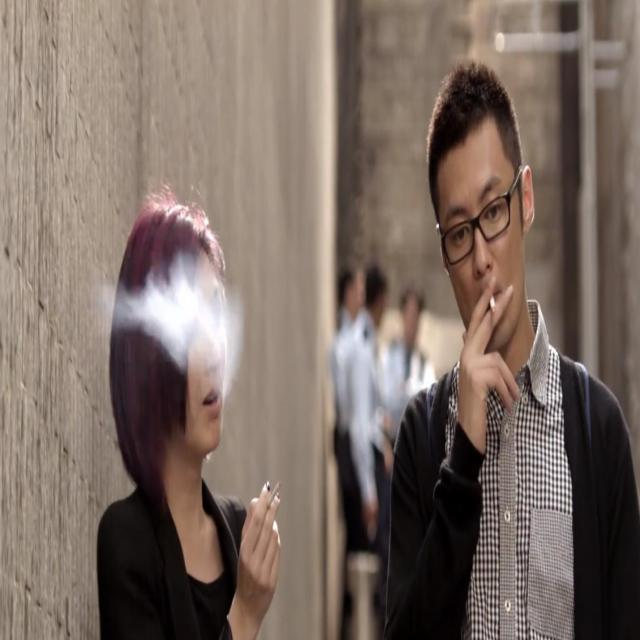cigarette: (268, 480, 282, 508), (488, 289, 498, 317)
